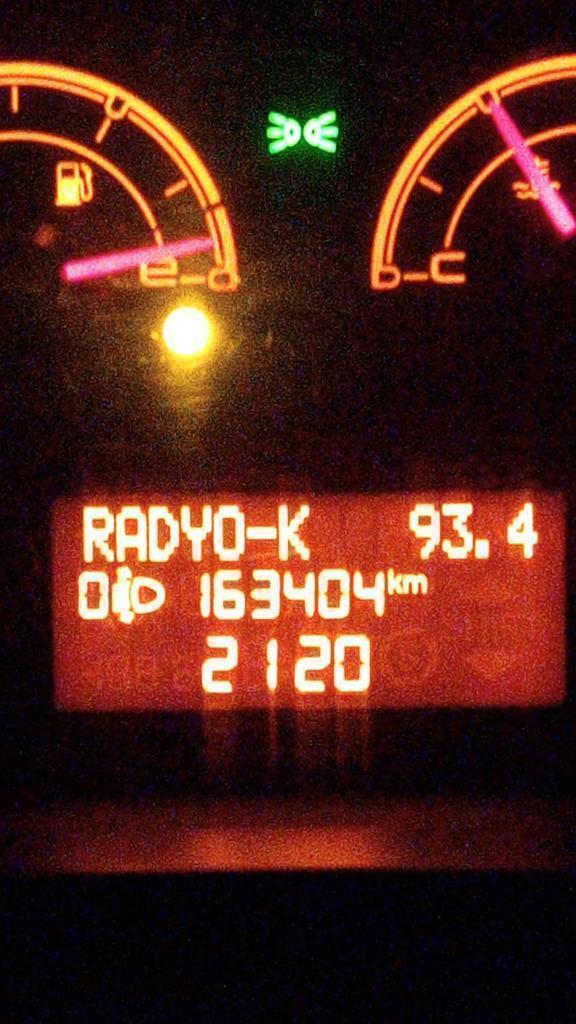,: (476, 536, 491, 561)
0: (332, 632, 372, 695), (72, 566, 111, 623), (318, 566, 351, 621)
1: (258, 631, 283, 695), (192, 568, 213, 620)
2: (197, 631, 242, 697), (290, 631, 330, 695)
3: (442, 499, 475, 562), (248, 565, 280, 623)
4: (502, 499, 542, 561), (350, 566, 386, 620), (282, 566, 316, 620)
6: (211, 566, 246, 623)
9: (403, 499, 441, 561)
X: (77, 502, 114, 565), (276, 501, 314, 561), (114, 503, 148, 565), (179, 502, 213, 564), (147, 502, 180, 564), (216, 502, 246, 563), (244, 524, 276, 545), (404, 572, 429, 596), (387, 565, 403, 597)
odometer: (39, 483, 576, 722)
